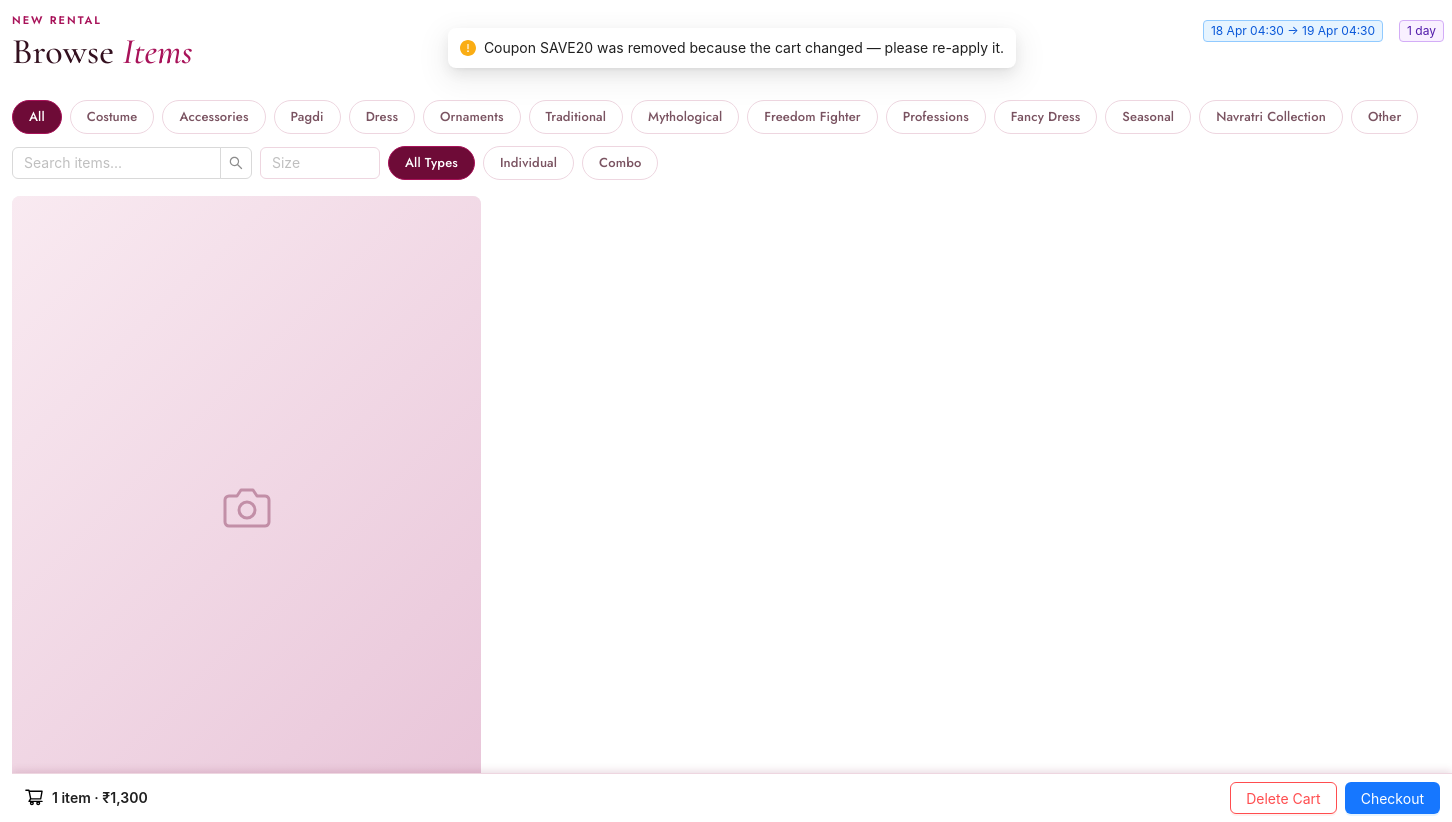
Test: CheckoutPage eligible coupons › does not block manual coupon entry when the eligible list fails to load
The width and height of the screenshot is (1452, 822).
Click the button "Checkout". click: click(1392, 798)
box: [1345, 782, 1440, 814]
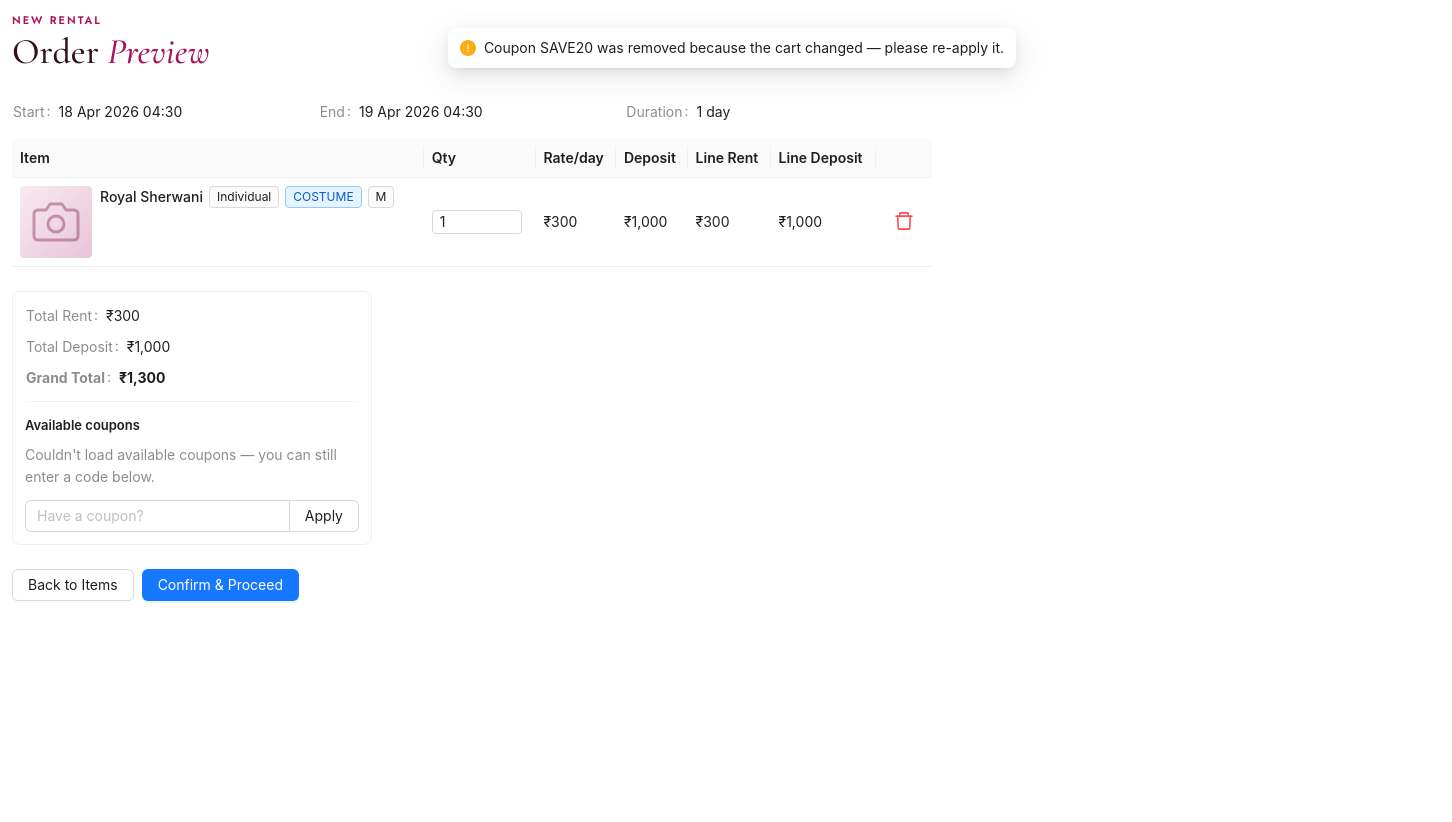
Expected: the text "Couldn't load available coupons" is shown, [25, 446, 337, 485]
Type "SAVE20" into the field with placeholder "Have a coupon?". click: (157, 516)
box: [25, 500, 290, 532]
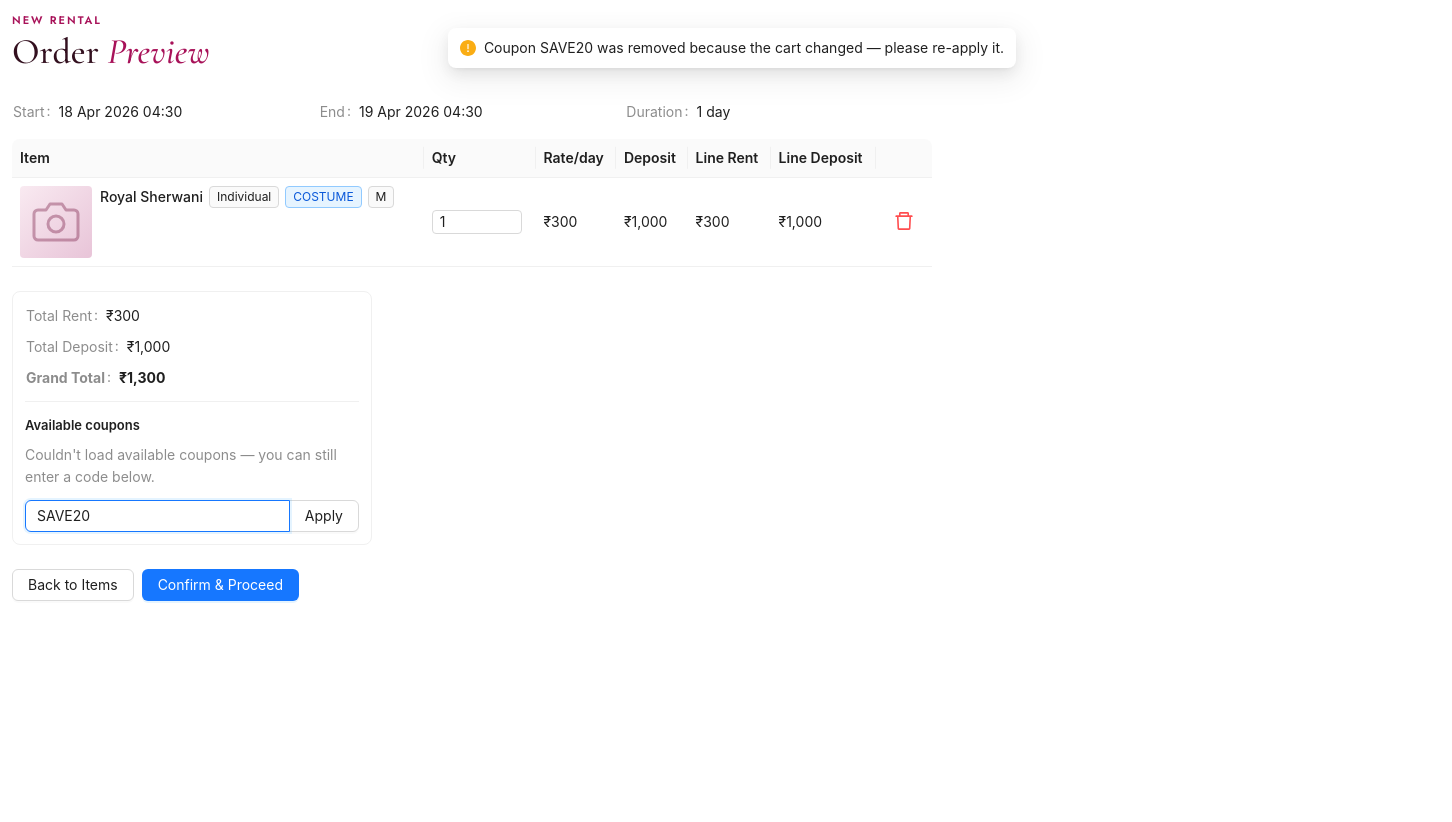
Click the button "Apply". click: click(324, 516)
box: [289, 500, 359, 532]
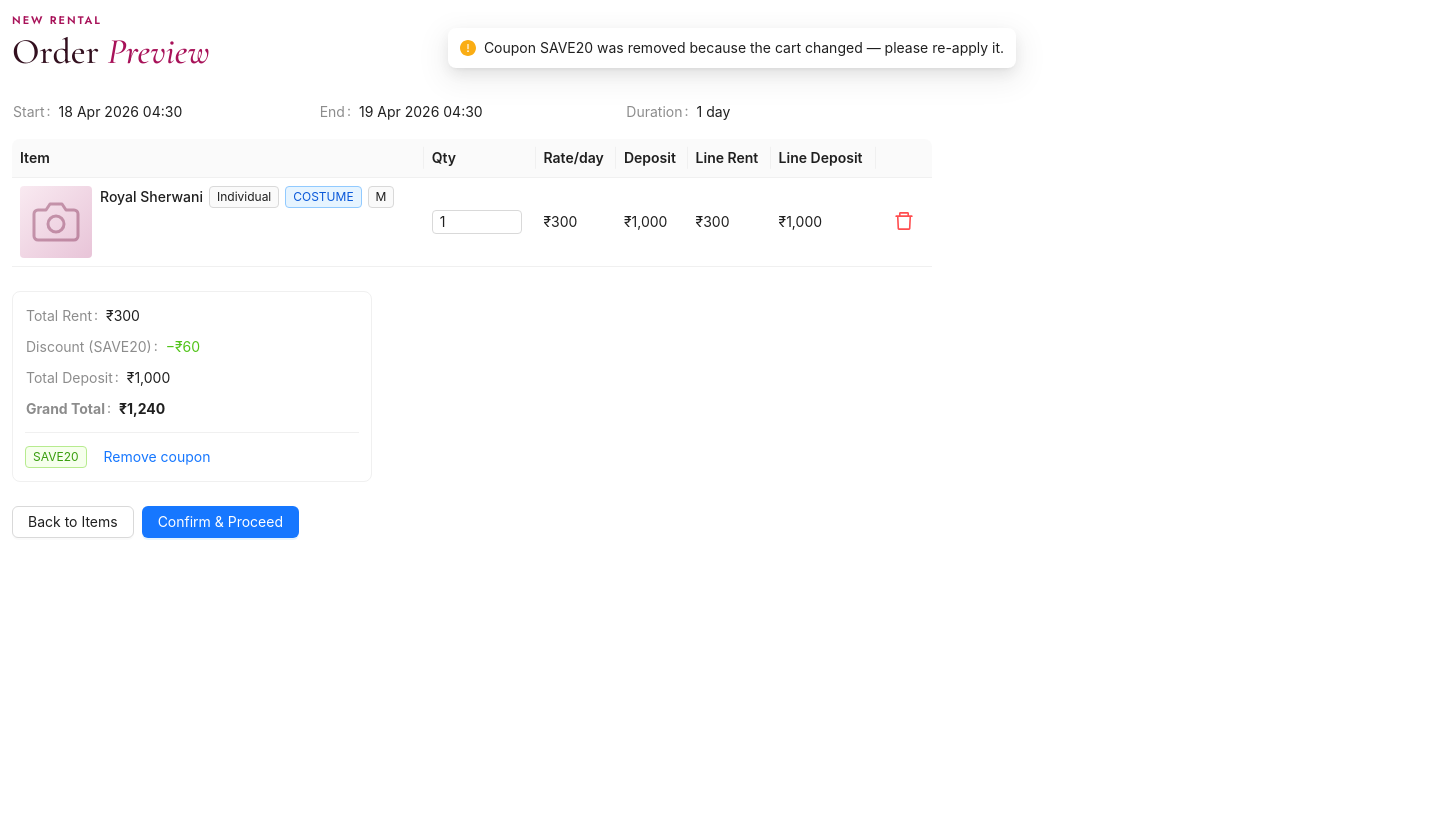
Expected: the text "Discount (SAVE20)" is shown, [26, 336, 166, 358]
